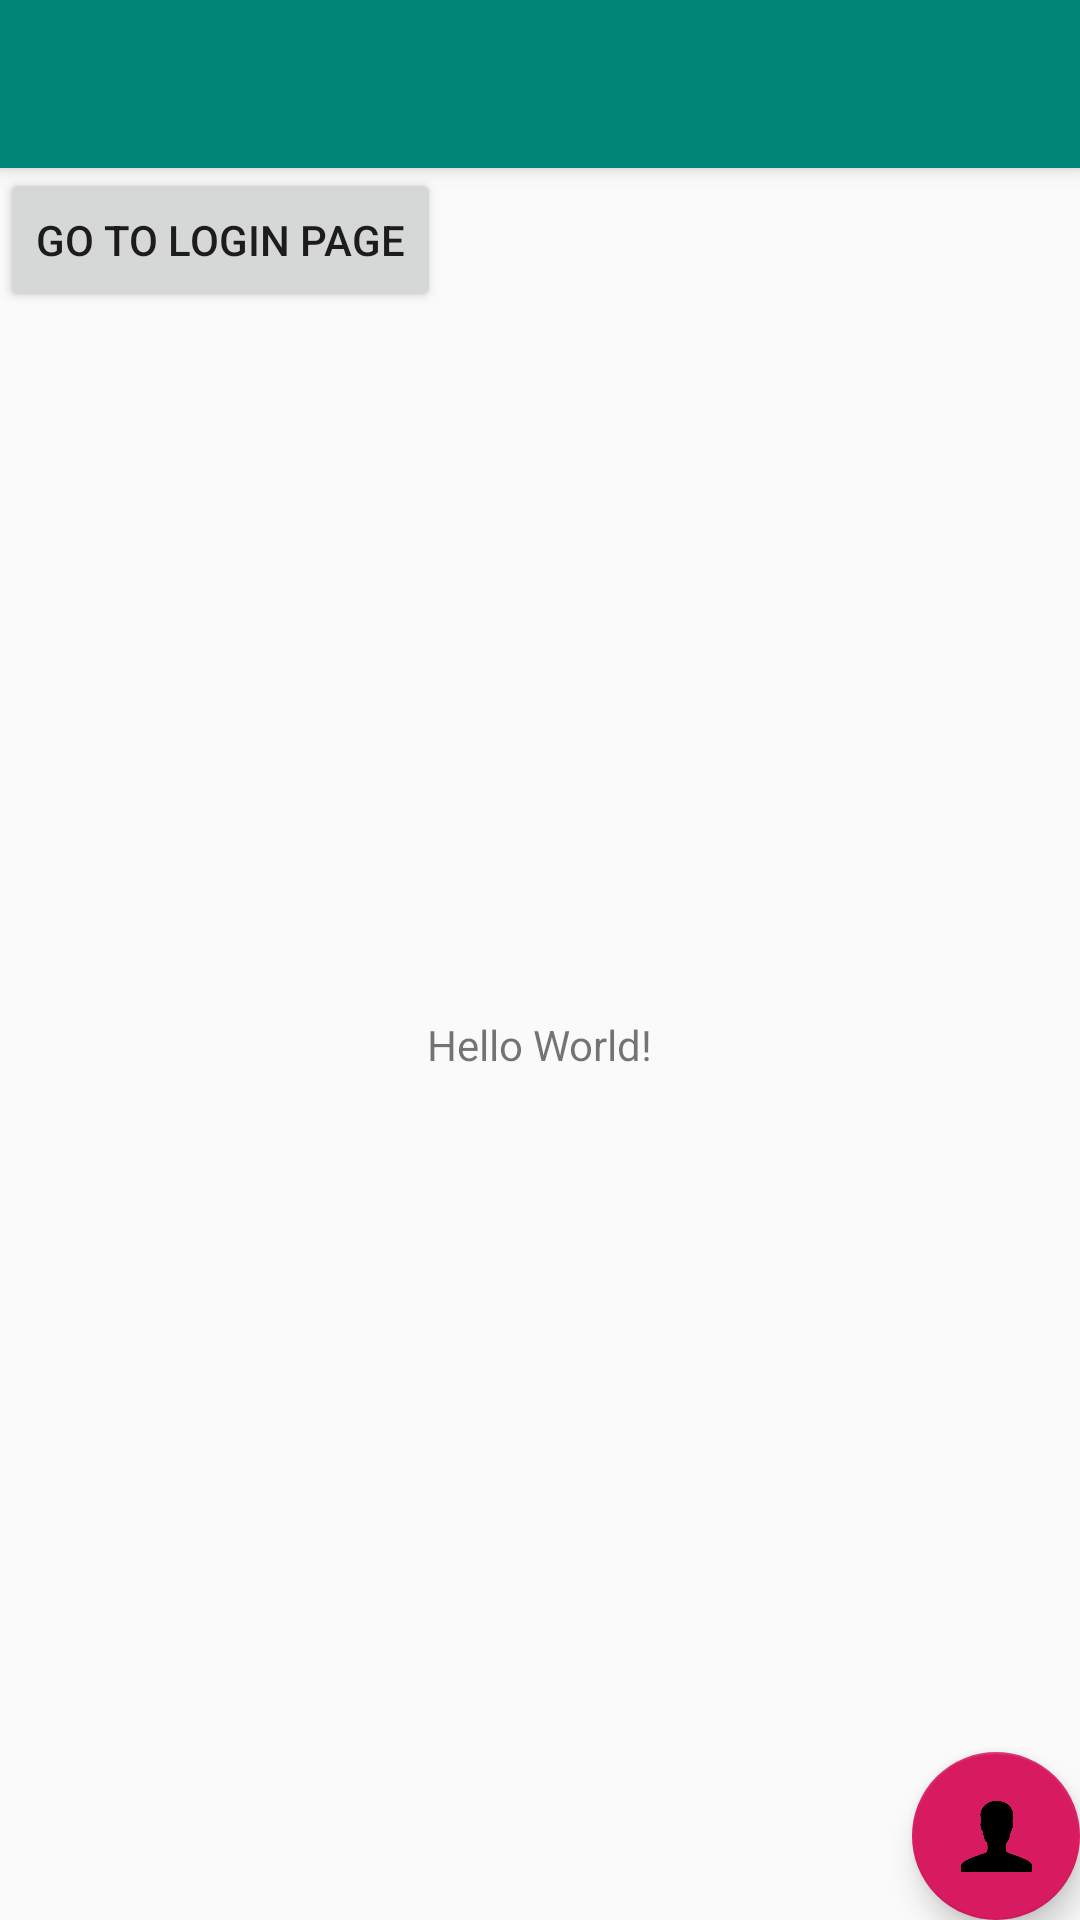

Where icons sit on this 1080 × 1920 app screen, as (x1, y1, x2, y2):
person: (912, 1752, 1080, 1920)
